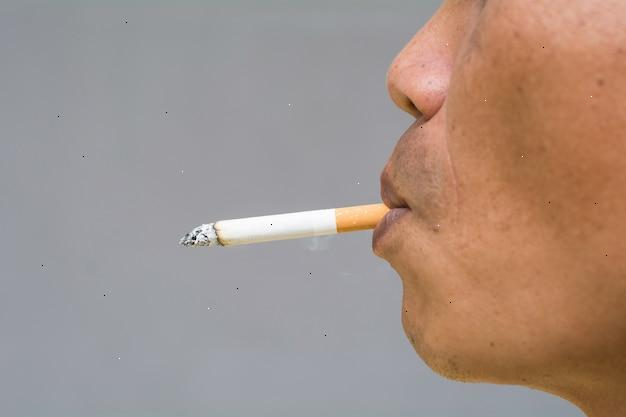cigarette: (180, 204, 388, 246)
